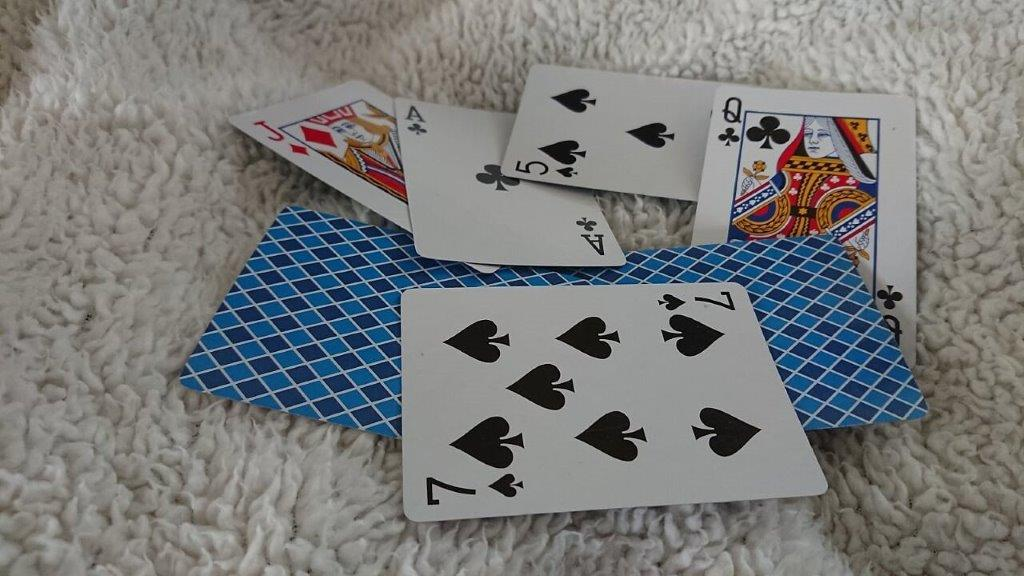AC: (402, 97, 430, 144)
BACK: (178, 204, 401, 441), (804, 233, 928, 431)
JD: (241, 111, 316, 164)
QC: (713, 88, 751, 155)
